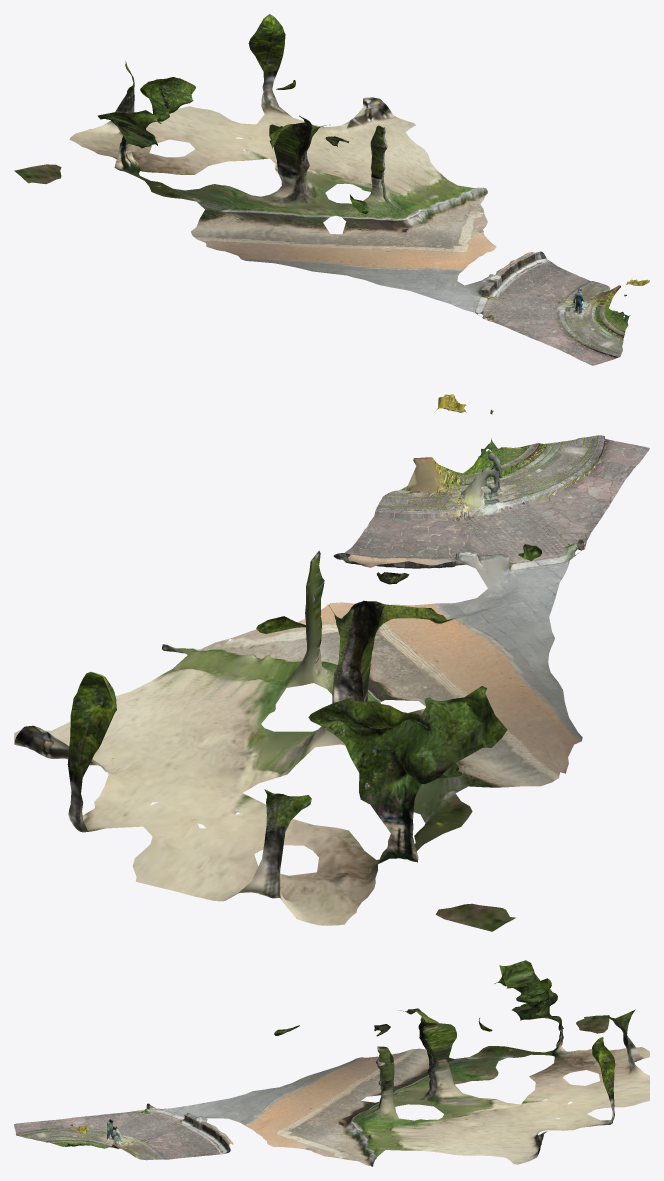
3 views of the same model, one above another, from view 1: azimuth 30°, elevation 25°; view 2: azimuth 150°, elevation 25°; view 3: azimuth 270°, elevation 25° (orthographic). The views are drawn at different scales.
Parts seen in each view (by area): view 1: baked_mesh_241e43db; view 2: baked_mesh_241e43db; view 3: baked_mesh_241e43db.
Part boxes in pixels (x1,y1,x2,y2): baked_mesh_241e43db: [14, 14, 649, 365]; baked_mesh_241e43db: [14, 394, 649, 931]; baked_mesh_241e43db: [14, 960, 649, 1166].
Bounding box in the file's own units: 15.77 × 4.59 × 28.31.
Materials: 1 (1 with a texture image).
